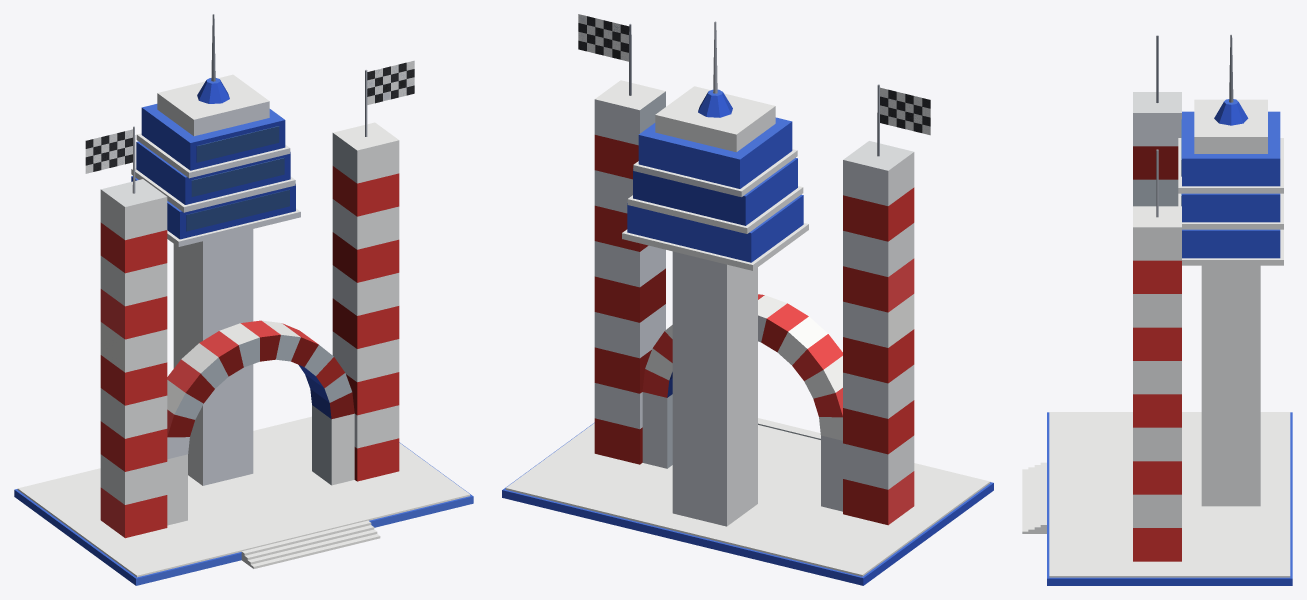
Rendered from landmark.glb.
3 renders of one model, left to right at view 1: azimuth 30°, elevation 25°; view 2: azimuth 150°, elevation 25°; view 3: azimuth 270°, elevation 25°, orthographic. The views are drawn at different scales.
Parts seen in each view (by area): view 1: racetower; view 2: racetower; view 3: racetower.
Boxes of the visible parts, x1=… form: racetower: x1=14, y1=14, x2=473, y2=585; racetower: x1=502, y1=14, x2=993, y2=585; racetower: x1=1022, y1=34, x2=1292, y2=585.
Bounding box in the file's own units: 32 × 42 × 22.
Materials: 1 (1 with a texture image).
